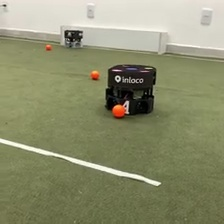ball: (111, 101, 127, 119), (89, 68, 100, 81), (44, 42, 52, 51)
goal: (57, 22, 170, 56)
robot: (103, 61, 157, 116), (62, 28, 84, 49)
